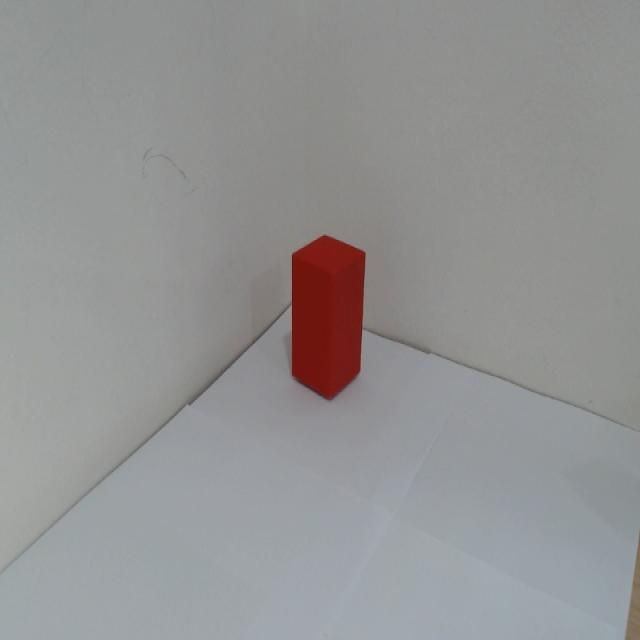cube: (287, 232, 368, 405)
